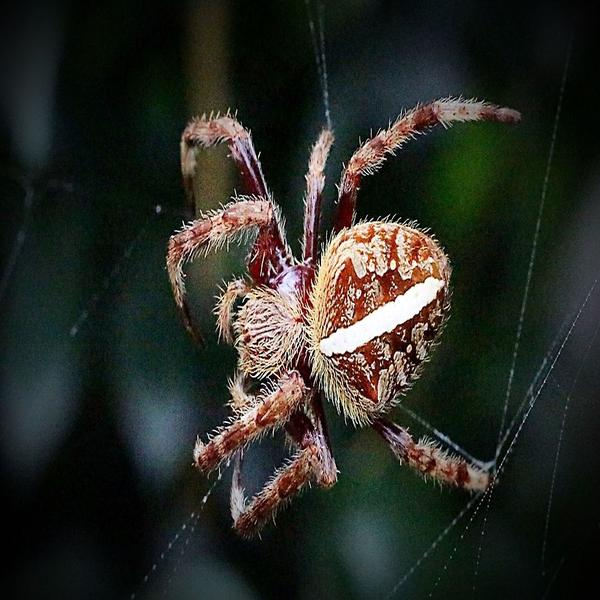Garden Orb Weaver Spider: (178, 95, 507, 517)
